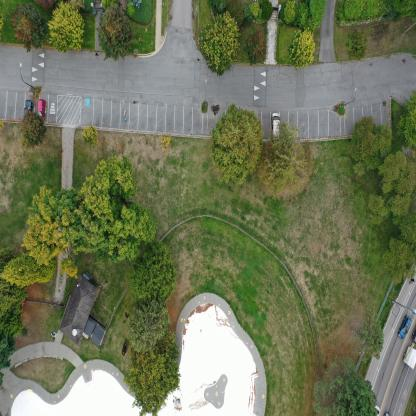Coniferous Tree: (214, 102, 262, 184), (308, 361, 375, 416), (131, 339, 180, 404), (266, 126, 310, 190), (130, 244, 176, 298), (130, 296, 166, 357), (95, 4, 133, 59), (5, 249, 44, 294), (348, 113, 386, 159), (381, 231, 414, 271), (13, 0, 38, 52), (360, 310, 389, 354), (0, 296, 16, 365), (399, 84, 416, 148)
Deciduous Tree: (68, 177, 156, 257), (25, 186, 76, 276), (372, 148, 416, 230), (203, 18, 245, 70), (46, 3, 83, 56), (288, 28, 322, 66), (18, 112, 48, 151)
